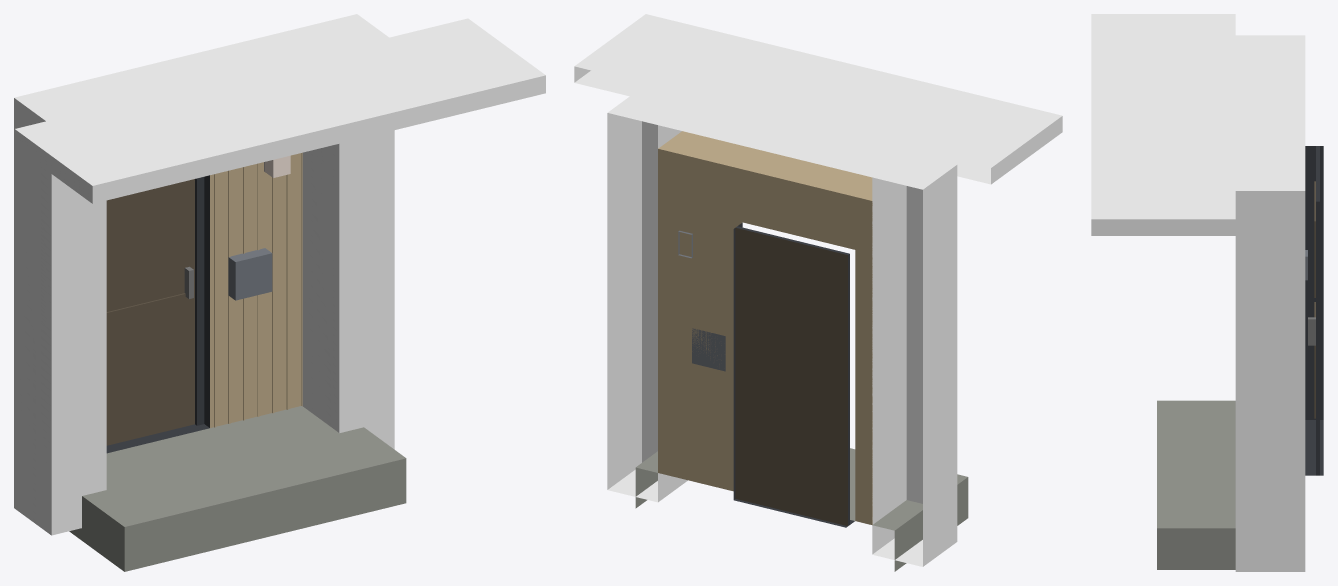
The model's file is entrance_close.fbx.
The picture shows the model from 3 angles, left to right: view 1: azimuth 30°, elevation 25°; view 2: azimuth 150°, elevation 25°; view 3: azimuth 270°, elevation 25°; orthographic projection. The views are drawn at different scales.
Parts seen in each view (by area): view 1: a2000/800/entrance_close; view 2: a2000/800/entrance_close; view 3: a2000/800/entrance_close.
Boxes of the visible parts, left/top/right/bottom form: a2000/800/entrance_close: left=14, top=14, right=545, bottom=571; a2000/800/entrance_close: left=574, top=14, right=1062, bottom=571; a2000/800/entrance_close: left=1091, top=14, right=1323, bottom=571.
Size of the model in its own units: 3.7 by 3.34 by 1.77.
